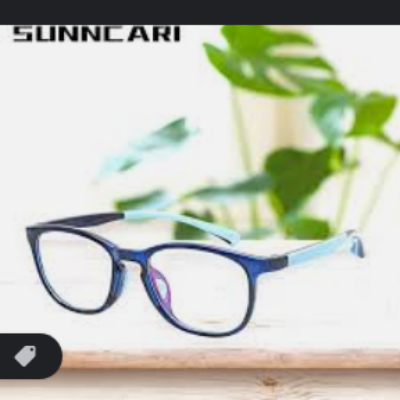glasses: (20, 208, 374, 341)
